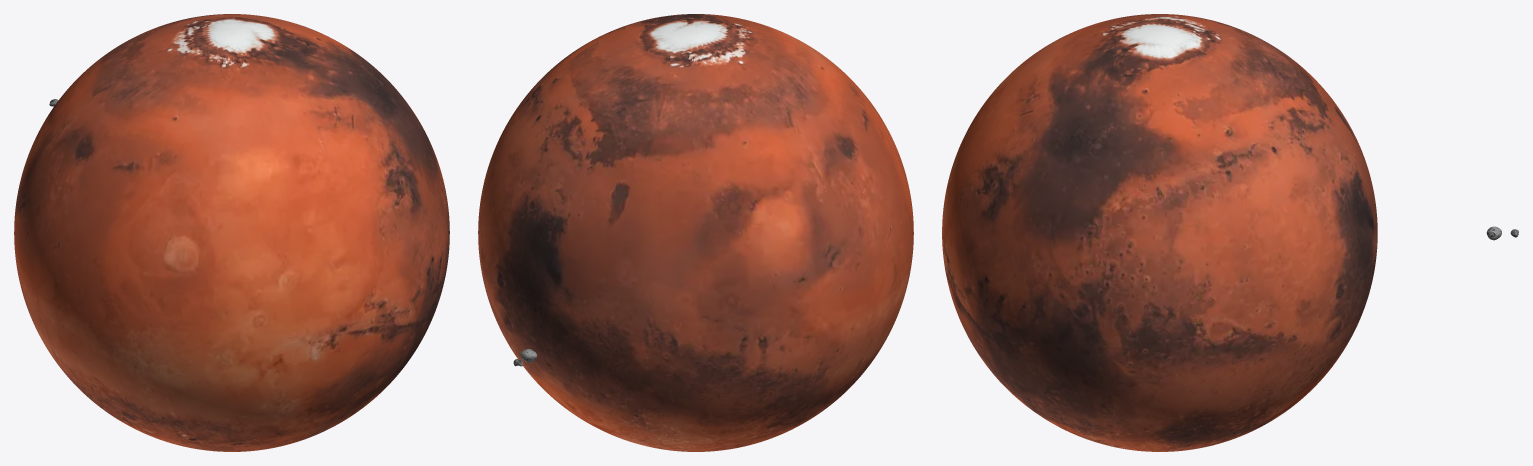
Rendered from mars-transformed.glb.
The picture shows the model from 3 angles, left to right: view 1: azimuth 30°, elevation 25°; view 2: azimuth 150°, elevation 25°; view 3: azimuth 270°, elevation 25°; orthographic projection.
Parts seen in each view (by area): view 1: Mars; view 2: Mars; view 3: Mars.
Part boxes in pixels (box(x1,y1,x2,y2)): Mars: box(14, 14, 449, 451); Mars: box(478, 14, 913, 451); Mars: box(942, 14, 1377, 451).
Size of the model in its own units: 26.46 by 26.74 by 35.03.
4 materials, 3 textured.
